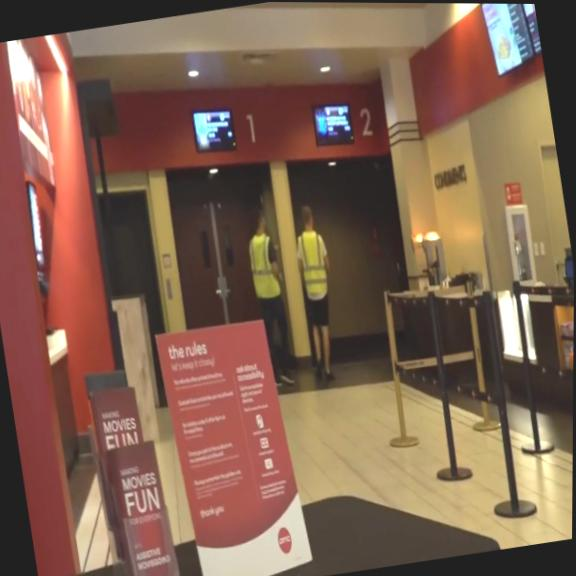safety_vest: (295, 225, 333, 300), (244, 230, 282, 300)
